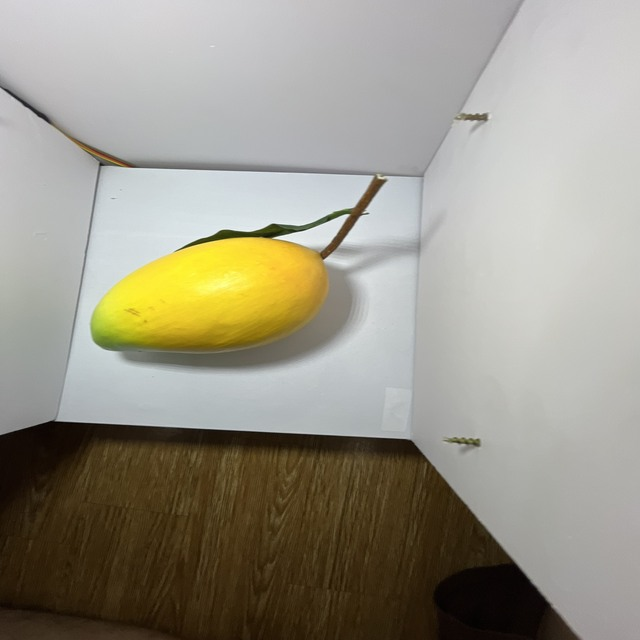Xoai: (68, 188, 351, 417)
